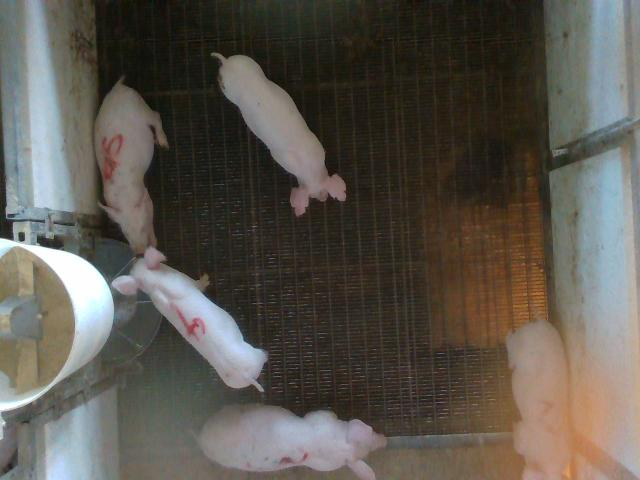pig-2: (506, 320, 571, 479)
pig-3: (198, 405, 386, 479)
pig-4: (111, 246, 268, 391)
pig-5: (94, 76, 169, 254)
